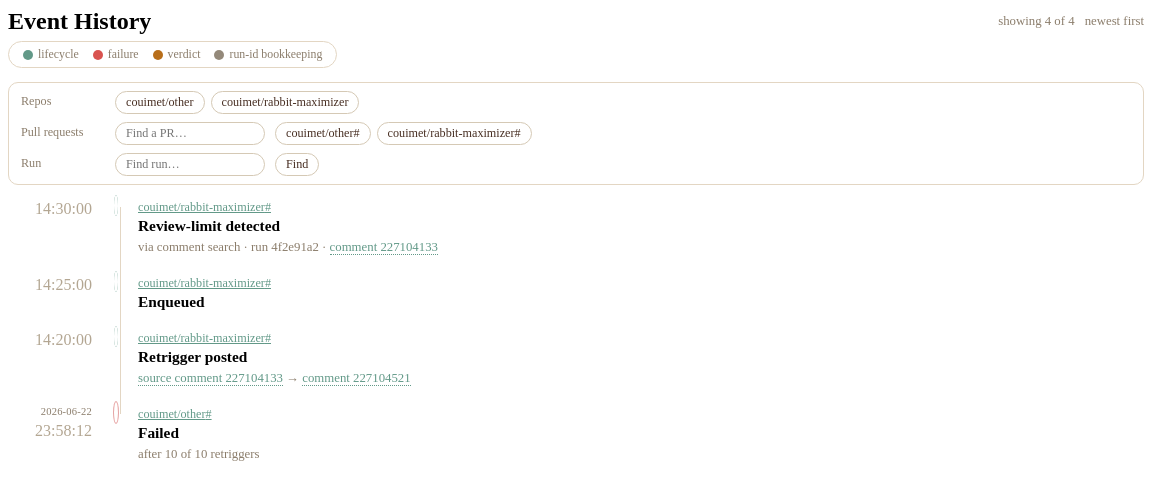
EventHistory › filter › filters by a PR on its own without picking its repo first
Check: the text "showing 4 of 4" is shown, box [998,14,1075,29]
Click the button "couimet/other#": (323, 134) [275,122,371,145]
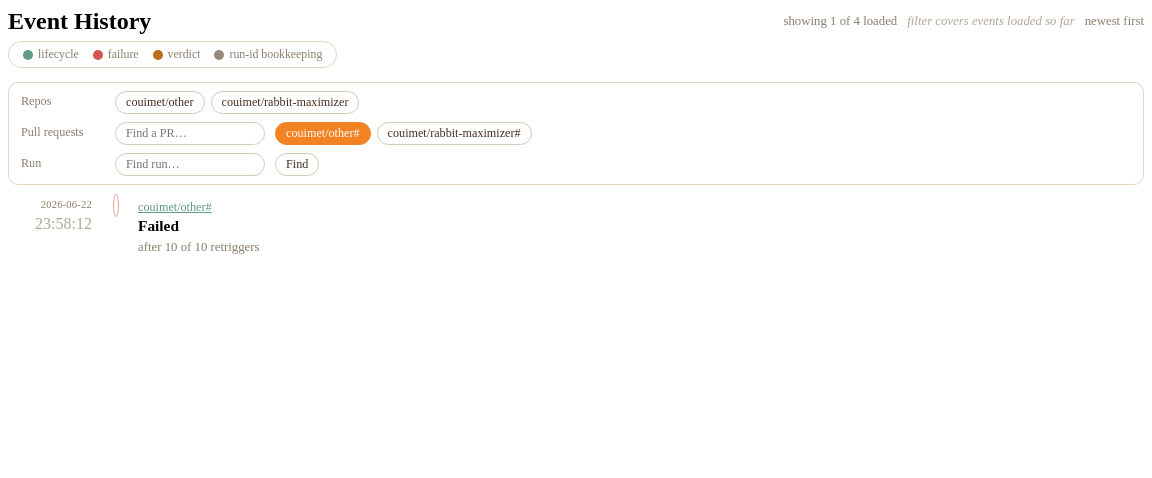
Check: the text "Failed" is shown, box [138,217,179,234]
Check: the text "showing 1 of 4 loaded" is shown, box [784,14,897,29]
Check: the text "Enqueued" is gone
